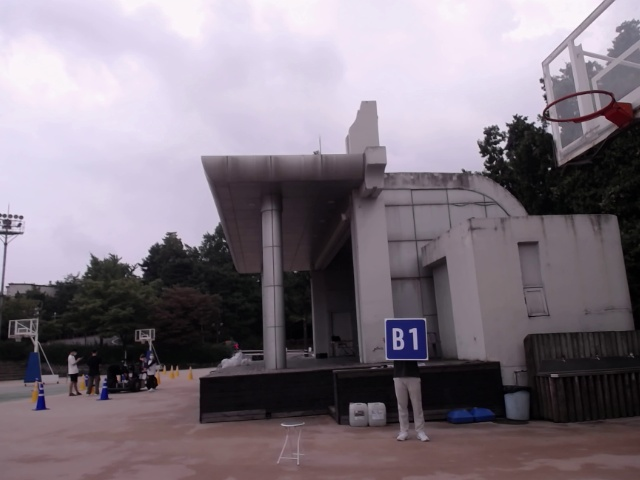delivery_b1: (384, 318, 428, 360)
